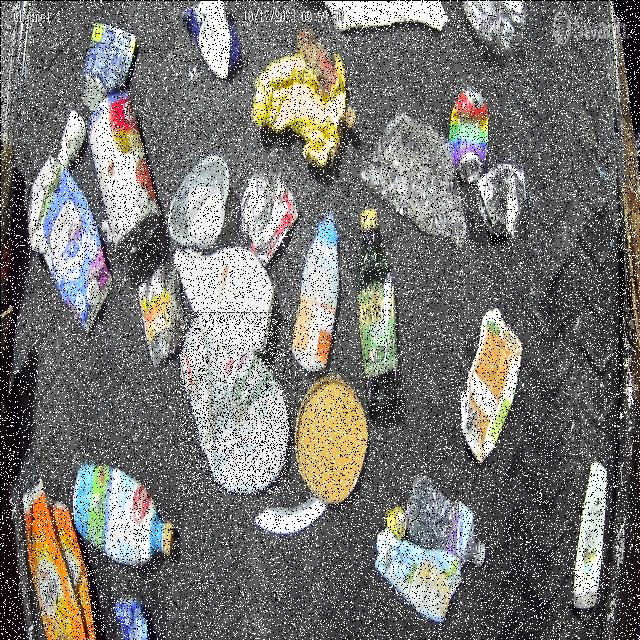milk-jug: (178, 311, 290, 494)
